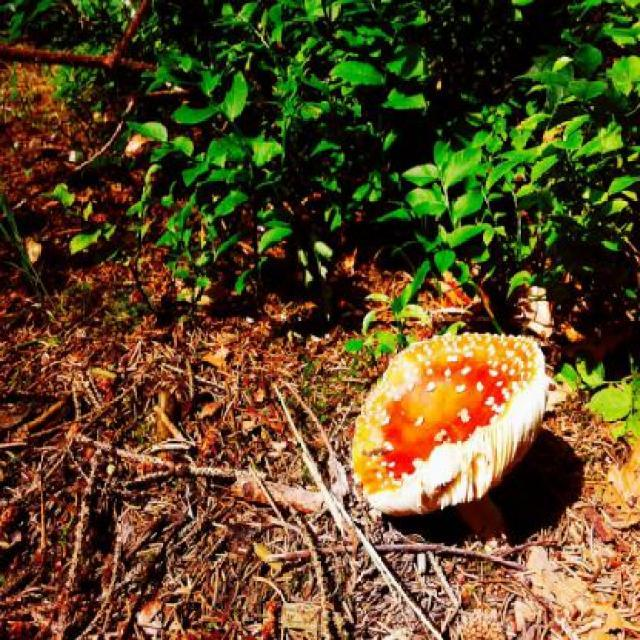Mushroom: (347, 333, 558, 550)
